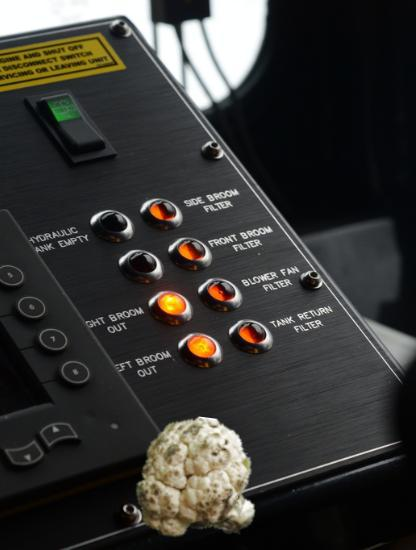Cauliflower: (136, 417, 262, 543)
